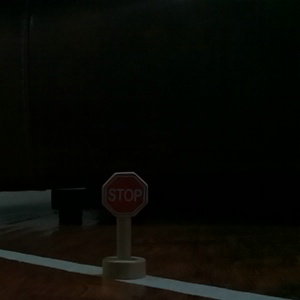stop sign: (100, 170, 149, 281)
